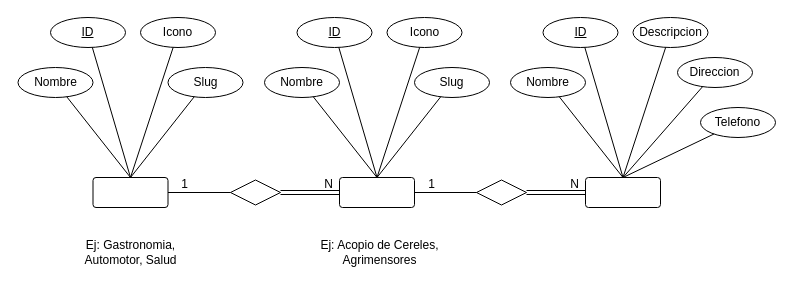
Image size: 793x285. Some labels were removed from this diagram. Each missing label, with the centre of its shape:
"Categorias" belongs at (376,192).
"Negocios" belongs at (622,192).
"Rubros" belongs at (130,192).
